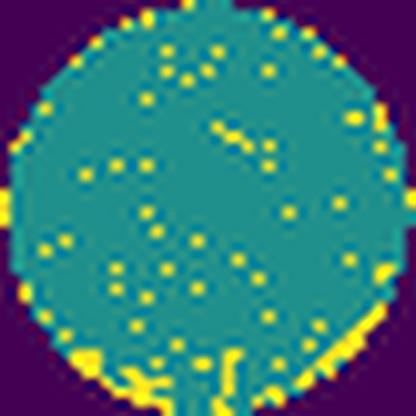Edge-Loc: (291, 298, 388, 393), (70, 344, 175, 416)
